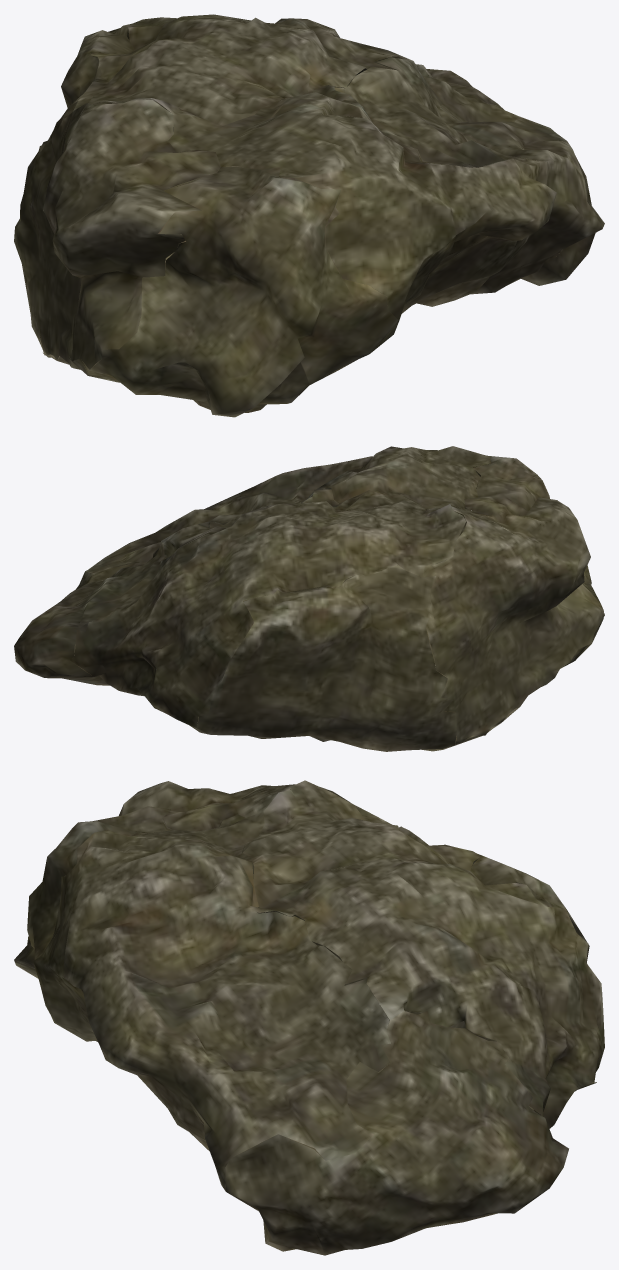
The model's file is rock_moss_set_02_rock12.glb.
3 renders of one model, top to bottom at view 1: azimuth 30°, elevation 25°; view 2: azimuth 150°, elevation 25°; view 3: azimuth 270°, elevation 25°, orthographic. The views are drawn at different scales.
Parts seen in each view (by area): view 1: rock_moss_set_02_rock12; view 2: rock_moss_set_02_rock12; view 3: rock_moss_set_02_rock12.
Part boxes in pixels (x1,y1,x2,y2): rock_moss_set_02_rock12: [14, 14, 604, 417]; rock_moss_set_02_rock12: [14, 446, 604, 751]; rock_moss_set_02_rock12: [14, 780, 604, 1255].
Bounding box in the file's own units: 1.58 × 0.7358 × 1.45.
1 material, 1 textured.
